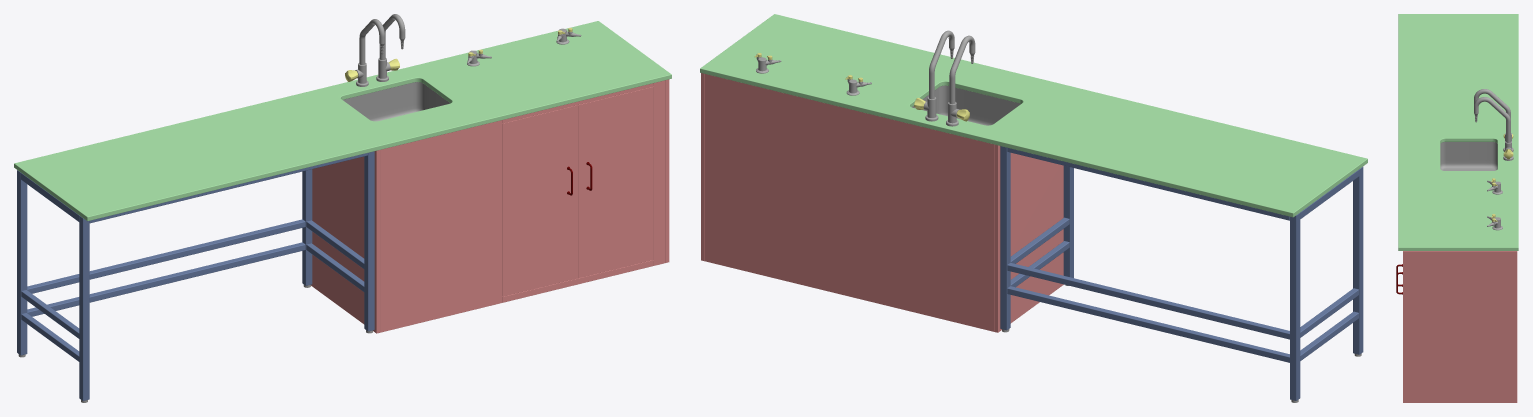
The model's file is HP_GasAndSinkTable_02.fbx.
3 views of the same model, side by side, from view 1: azimuth 30°, elevation 25°; view 2: azimuth 150°, elevation 25°; view 3: azimuth 270°, elevation 25° (orthographic). The views are drawn at different scales.
Visible parts, largest first — view 1: polySurface419; view 2: polySurface419; view 3: polySurface419.
Part boxes in pixels (x1,y1,x2,y2): polySurface419: (14, 14, 671, 402); polySurface419: (700, 14, 1367, 402); polySurface419: (1396, 14, 1518, 402).
Bounding box in the file's own units: 290 × 126 × 64.3.
